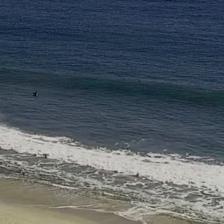surfer: (33, 91, 38, 96)
